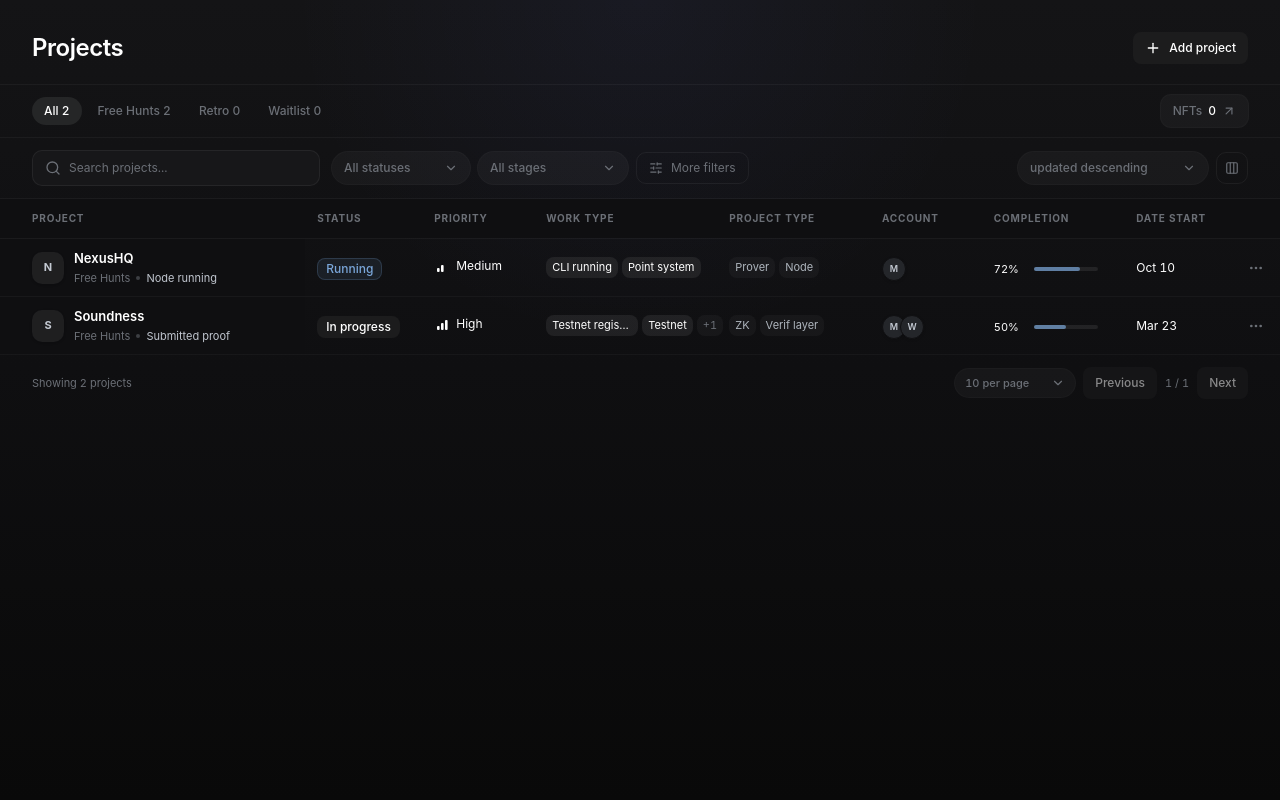
Test case: ProjectsPreview › adds a project through the dialog in development preview
Click the button "Add project" at (1191, 48), box [1133, 32, 1248, 64]
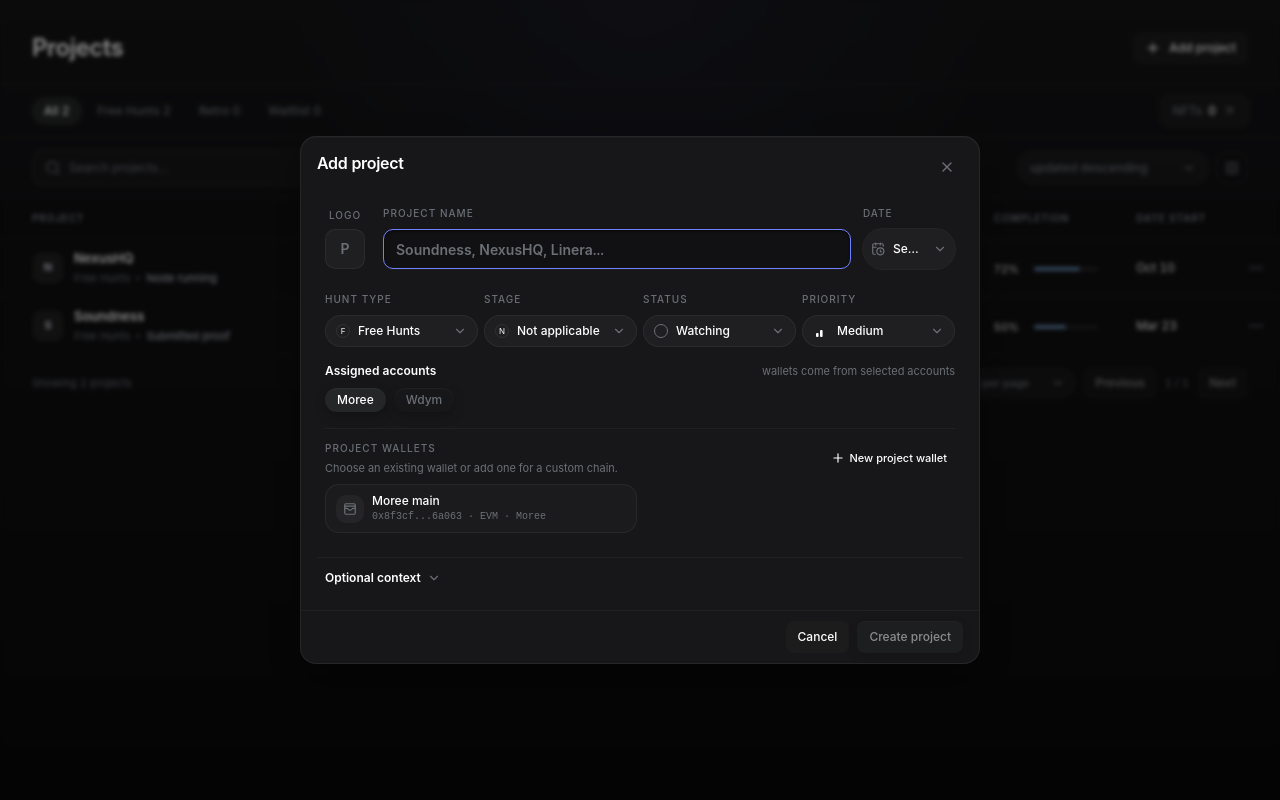
Check: the dialog "Add project" is shown
Type "Mint campaign" into the field with placeholder "Soundness, NexusHQ, Linera..." at (617, 249), box [383, 229, 851, 269]
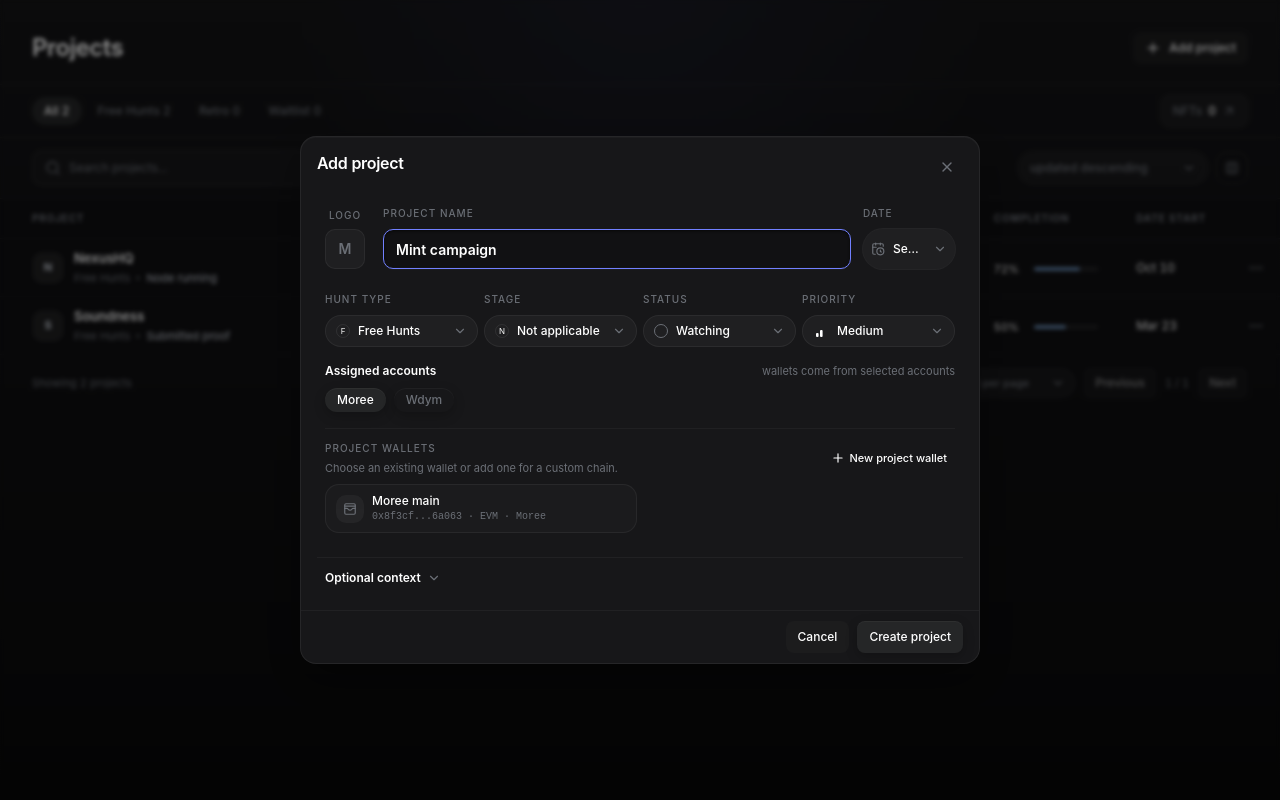
Click the button "Create project" at (910, 637), box [857, 621, 963, 653]
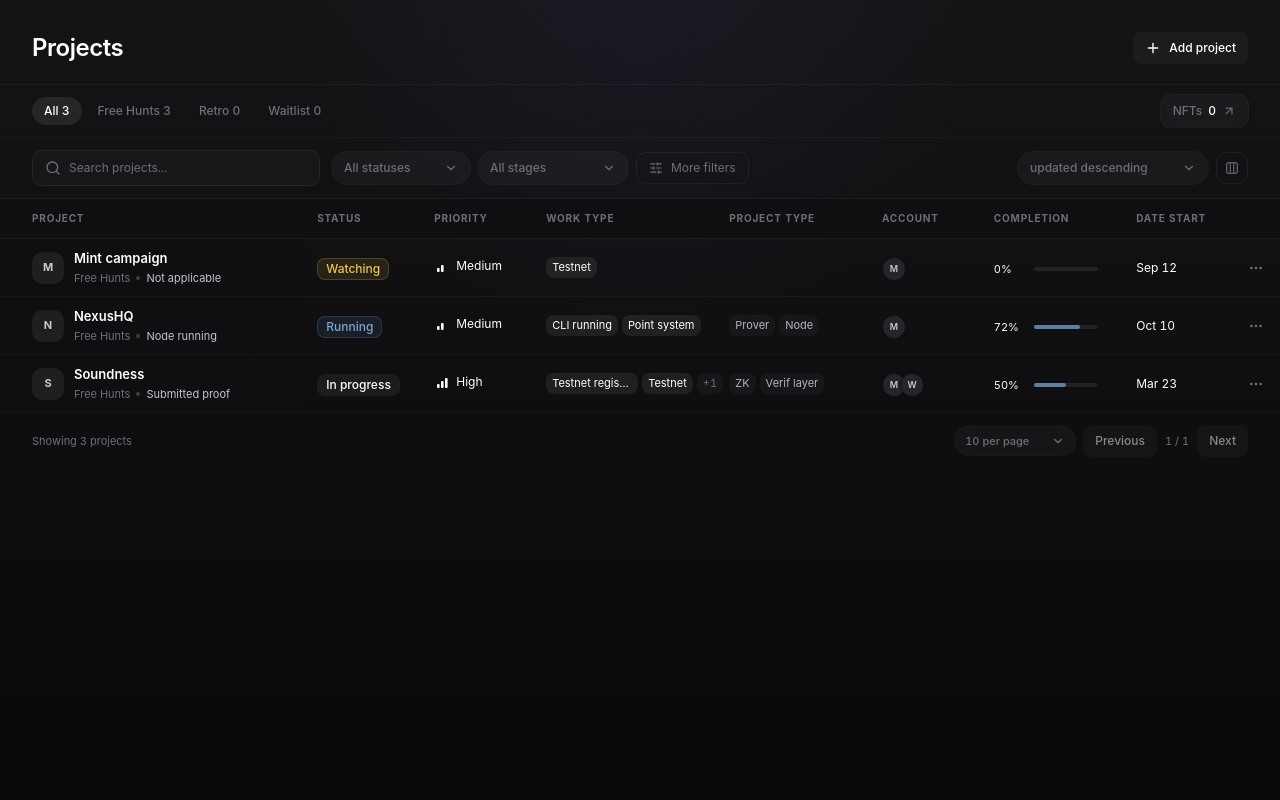
Check: the text "Mint campaign" is shown, box [74, 250, 168, 266]
